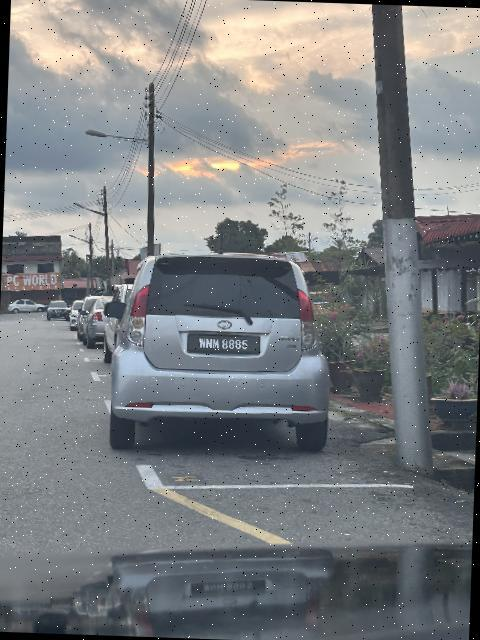License_Plate: (186, 333, 265, 359)
WNM8885: (186, 333, 265, 359)
car: (107, 248, 334, 454)
